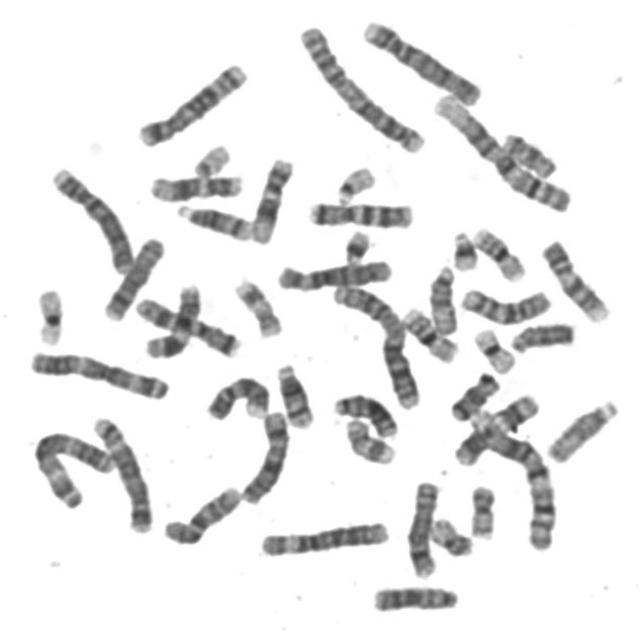A1: (428, 86, 574, 215), (464, 405, 560, 551)
A2: (294, 17, 428, 156), (326, 275, 422, 411)
A3: (20, 342, 173, 402), (28, 424, 118, 511)
B4: (356, 12, 484, 108), (45, 158, 137, 276)
B5: (131, 54, 250, 148), (86, 408, 155, 535)
C10: (156, 478, 244, 547), (454, 280, 554, 326)
C11: (448, 386, 542, 468), (139, 276, 205, 361)
C12: (244, 150, 296, 246), (142, 166, 246, 203)
C6: (253, 513, 392, 559), (270, 252, 396, 293)
C7: (130, 290, 242, 359), (303, 193, 416, 230)
C8: (97, 229, 168, 323), (401, 474, 444, 580)
C9: (537, 233, 613, 324), (200, 368, 273, 422)
D13: (326, 386, 402, 440), (366, 577, 462, 615)
D14: (170, 196, 256, 242), (270, 355, 317, 430)
D15: (540, 392, 622, 465), (422, 258, 460, 336)
E16: (396, 299, 461, 365), (467, 219, 530, 283)
E17: (228, 271, 284, 339), (339, 411, 399, 466)
E18: (497, 124, 560, 180), (444, 365, 503, 423)
F19: (468, 321, 520, 376), (28, 281, 66, 348)
F20: (424, 511, 476, 558), (463, 478, 501, 541)
G21: (446, 222, 482, 273), (338, 222, 374, 267)
G22: (328, 158, 379, 206), (186, 135, 233, 179)
X: (235, 404, 293, 506)
